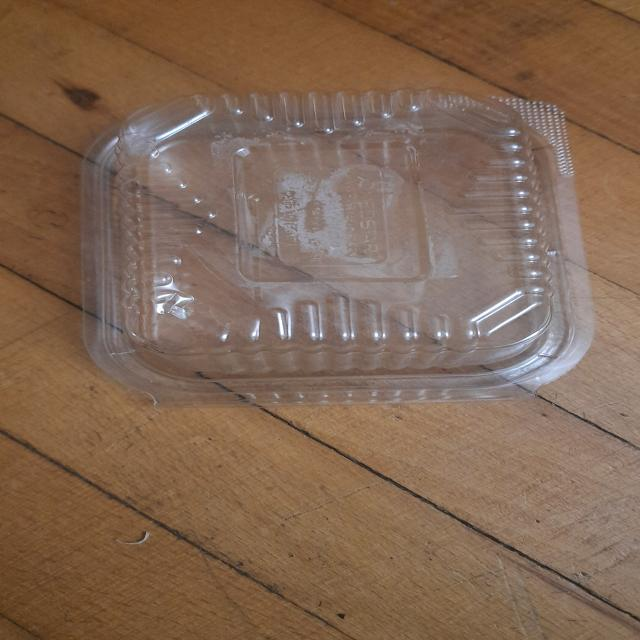plastic: (78, 90, 596, 409)
